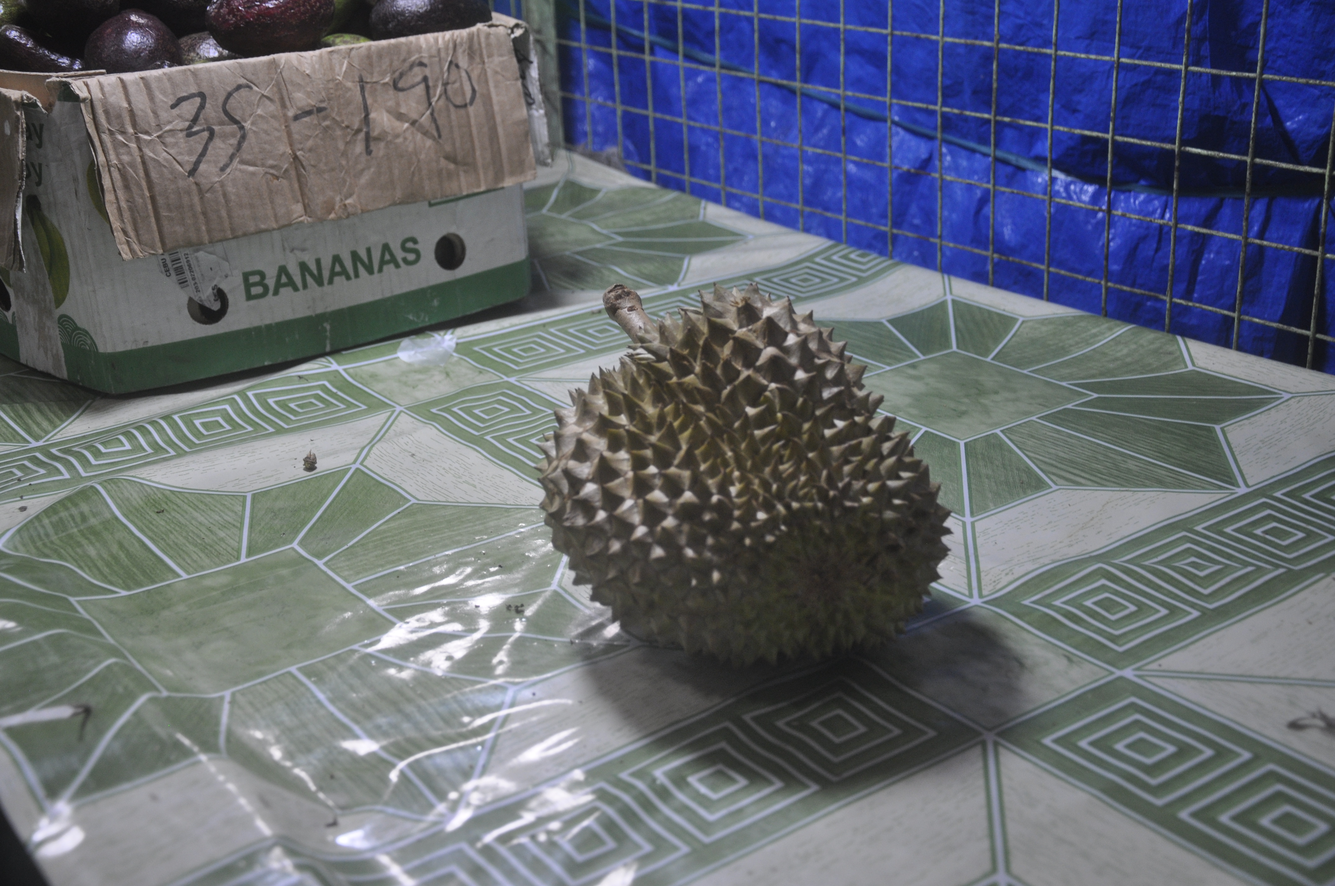mature: (518, 262, 974, 688)
